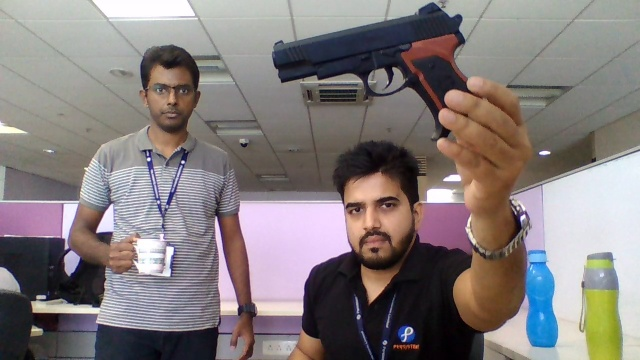gun: (271, 2, 466, 79)
